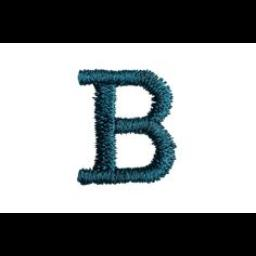b: (68, 59, 188, 189)
